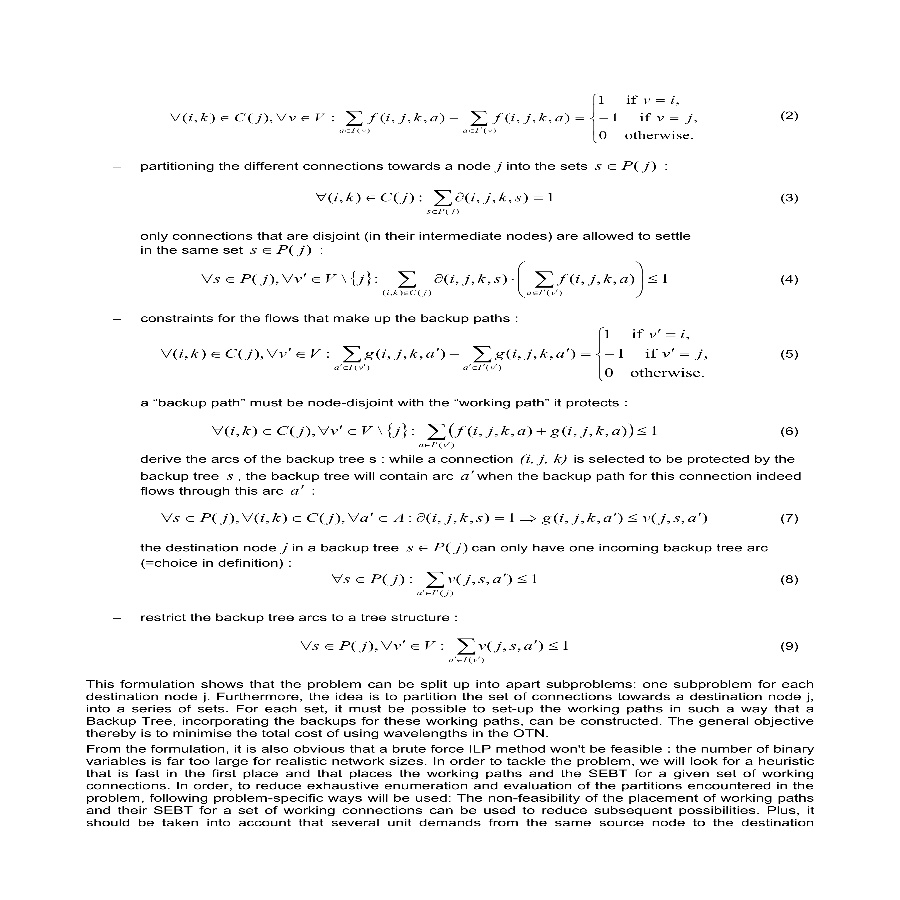eq: (157, 323, 712, 382), (165, 93, 701, 146), (198, 258, 672, 299), (207, 420, 662, 451), (159, 509, 712, 528), (296, 634, 571, 665), (308, 188, 558, 217), (326, 570, 543, 599)
